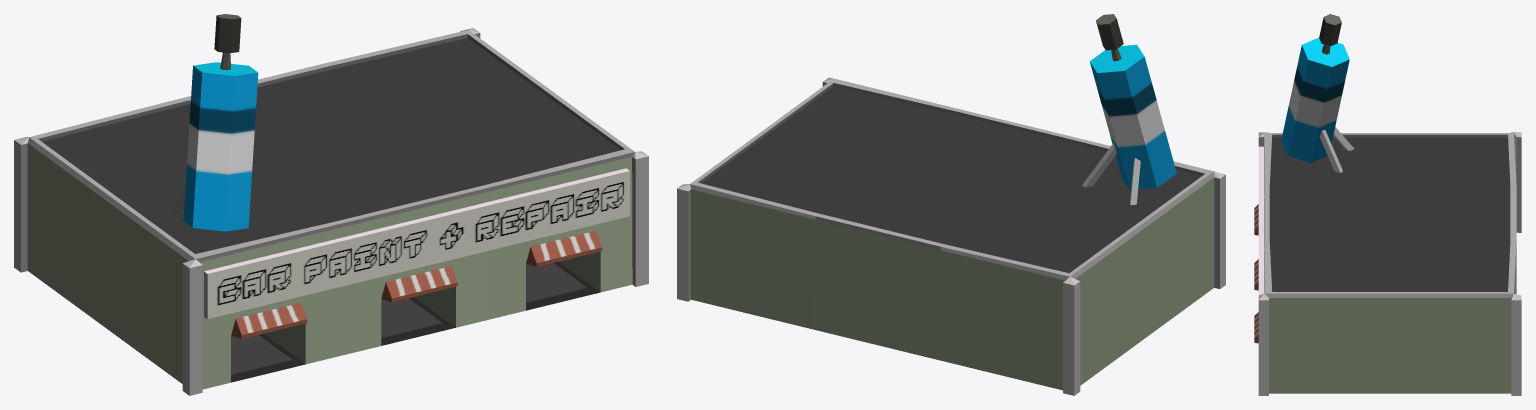
File: Car Paint.fbx
The picture shows the model from 3 angles, left to right: view 1: azimuth 30°, elevation 25°; view 2: azimuth 150°, elevation 25°; view 3: azimuth 270°, elevation 25°; orthographic projection. The views are drawn at different scales.
Visible parts, largest first — view 1: Car Paint; view 2: Car Paint; view 3: Car Paint.
Part boxes in pixels (bbox=[...]): Car Paint: bbox=[14, 14, 648, 395]; Car Paint: bbox=[677, 14, 1225, 395]; Car Paint: bbox=[1254, 14, 1521, 395].
Size of the model in its own units: 1018 by 686 by 684.
